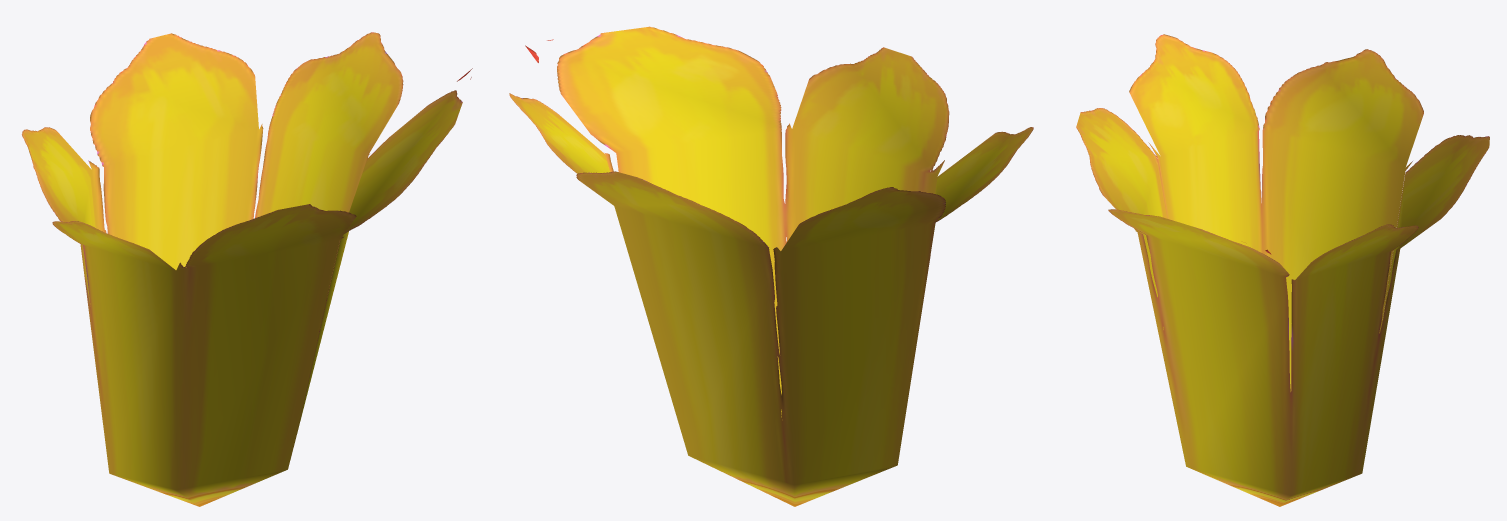
The model's file is petal_4.glb.
3 views of the same model, side by side, from view 1: azimuth 30°, elevation 25°; view 2: azimuth 150°, elevation 25°; view 3: azimuth 270°, elevation 25° (orthographic). The views are drawn at different scales.
Visible parts, largest first — view 1: Petal_4; view 2: Petal_4; view 3: Petal_4.
Part boxes in pixels (left/top/right/bottom): Petal_4: left=22, top=32, right=472, bottom=506; Petal_4: left=509, top=26, right=1033, bottom=506; Petal_4: left=1076, top=34, right=1489, bottom=506.
Size of the model in its own units: 0.3291 by 0.2521 by 0.2445.
Materials: 1 (1 with a texture image).
